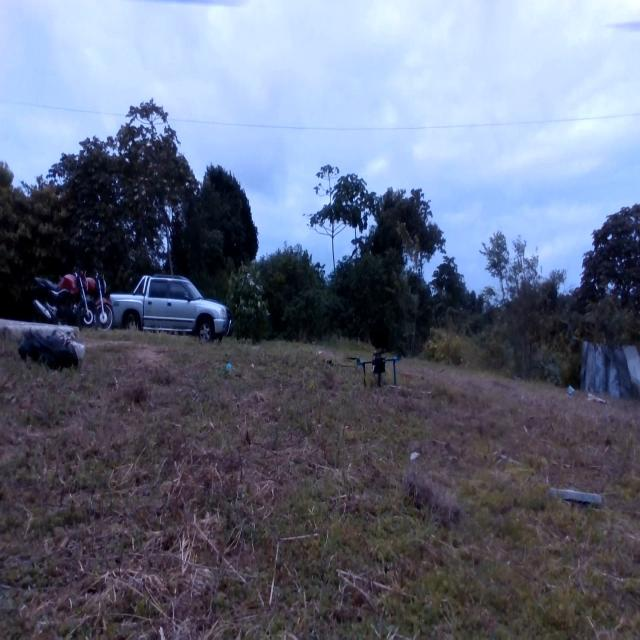-uav-: (345, 338, 407, 397)
